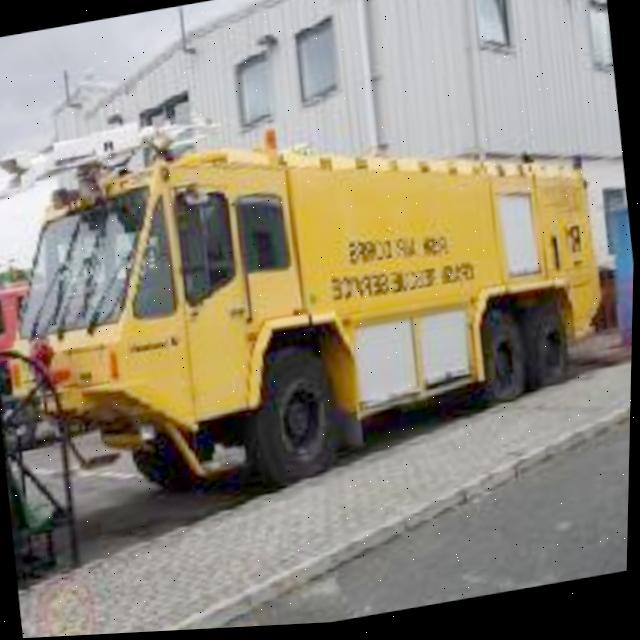emergency: (0, 77, 626, 525)
